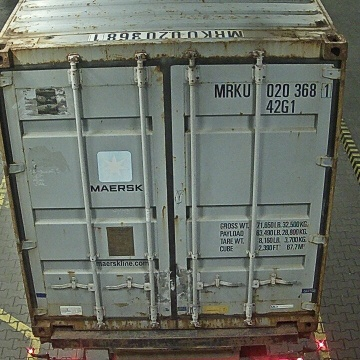serial_id: (215, 82, 330, 97)
